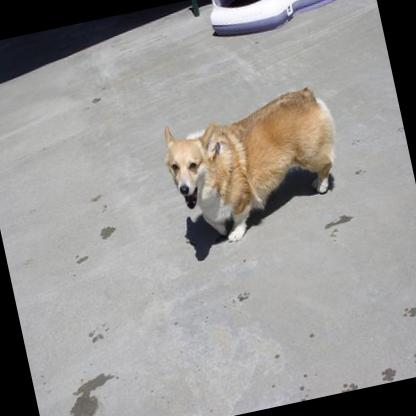Pembroke: (155, 82, 354, 252)
